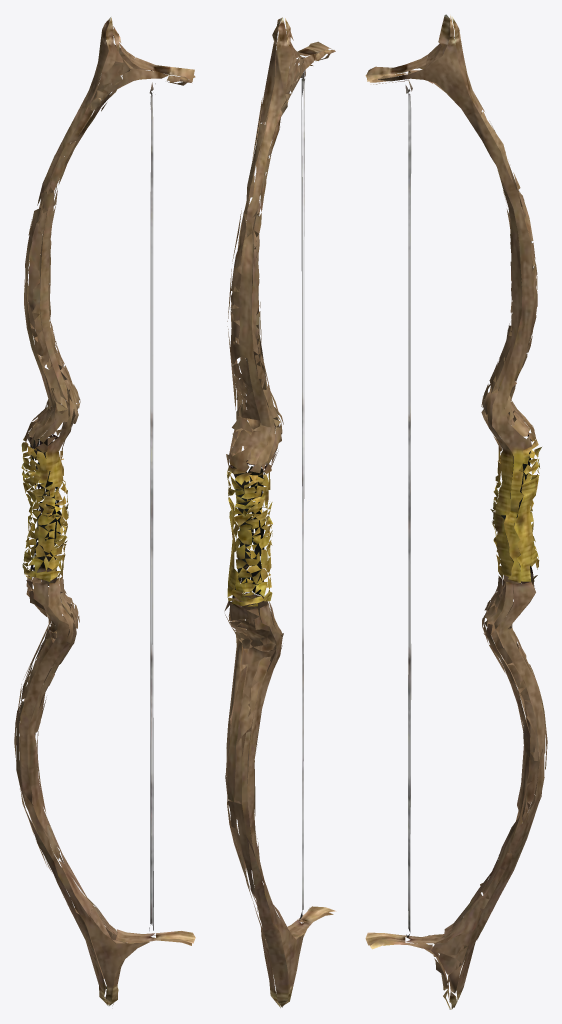
Rendered from bow-v1.glb.
The picture shows the model from 3 angles, left to right: view 1: azimuth 90°, elevation 25°; view 2: azimuth 150°, elevation 25°; view 3: azimuth 270°, elevation 25°; orthographic projection.
Visible parts, largest first — view 1: WeaponDrawn; view 2: WeaponDrawn; view 3: WeaponDrawn.
Part boxes in pixels (left/top/right/bottom): WeaponDrawn: left=14, top=17, right=195, bottom=1005; WeaponDrawn: left=224, top=17, right=336, bottom=1007; WeaponDrawn: left=365, top=14, right=547, bottom=1009.
Bounding box in the file's own units: 0.0737 × 1.5 × 0.2478.
Materials: 1 (1 with a texture image).
